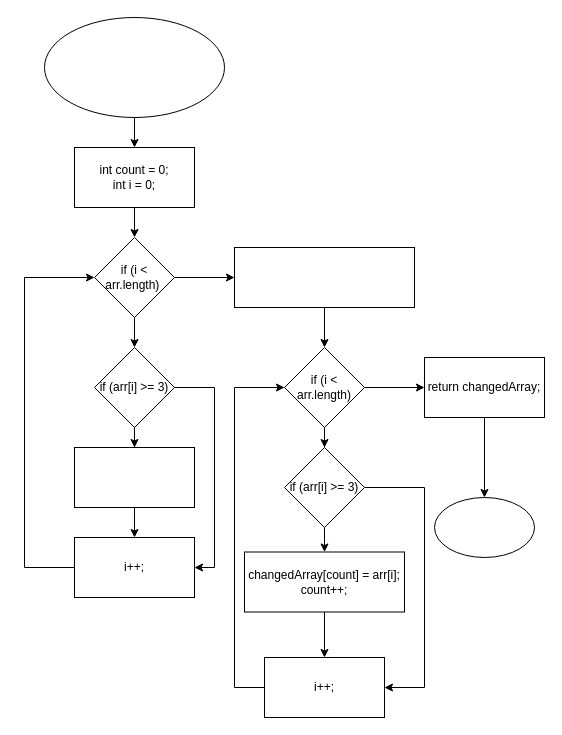
Image size: 562x735. Some labels were removed from this diagram. Here are the shapes that lost their labels. From the top down, the centre of each, then its label:
At pixel 134 67: "Start string[] NewThreeCharsArrayCreation (string[] arr)".
At pixel 324 277: "string[] changedArray = new string[count + 1]; count = 0; i = 0;".
At pixel 134 477: "count++;".
At pixel 484 527: "End".
